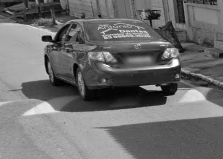car: (39, 17, 186, 100)
